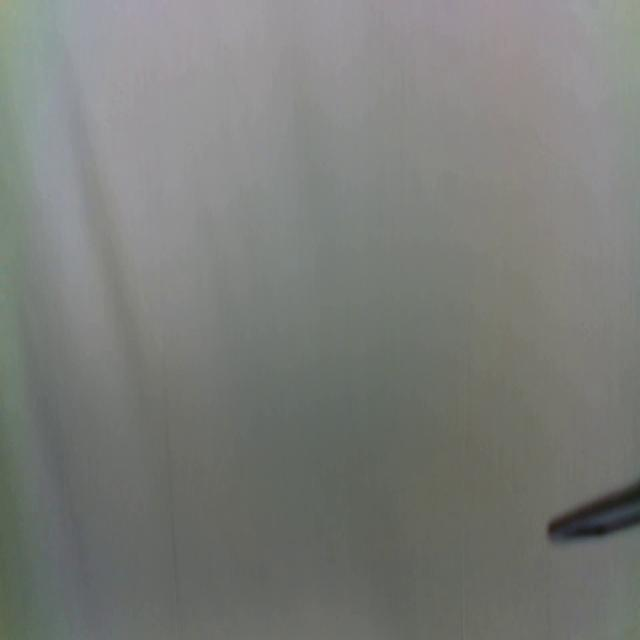crease: (157, 264, 182, 621)
